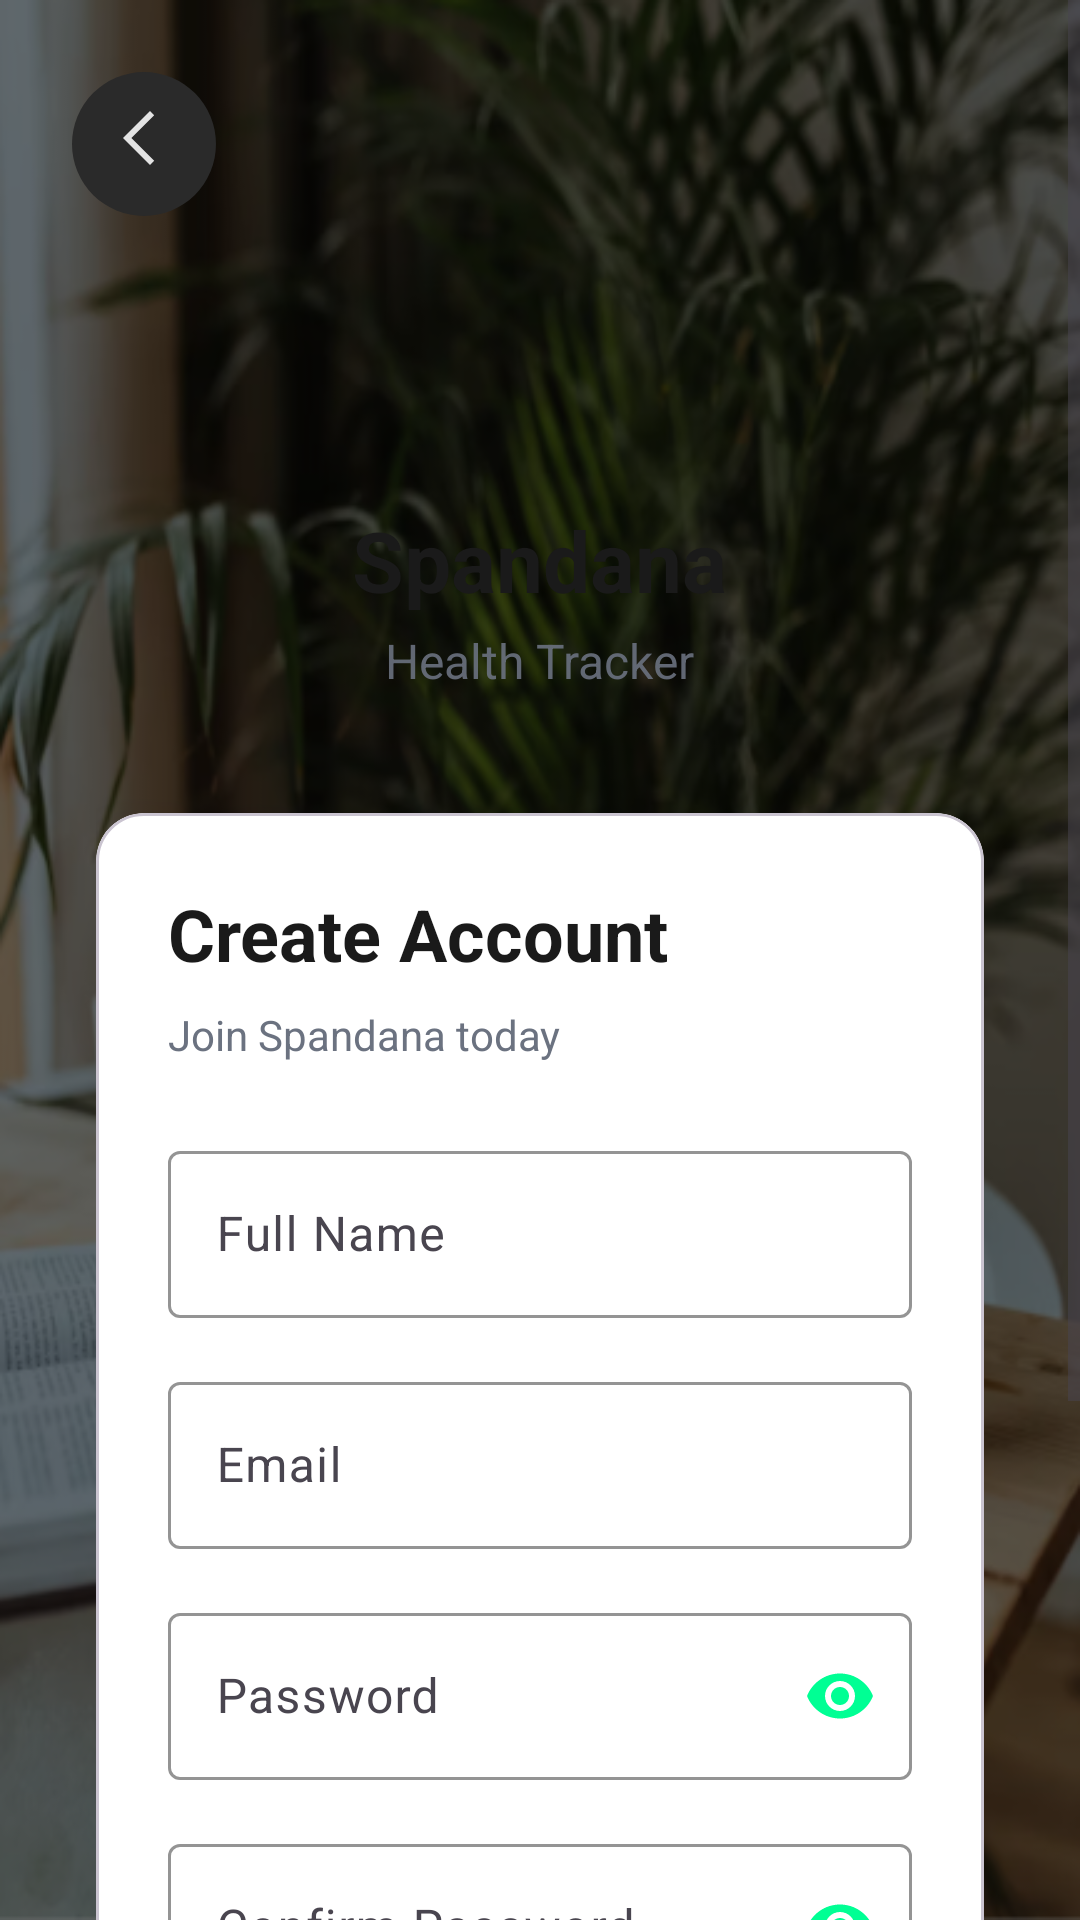

Icons on this 1080×1920 Android screen, each with the point to tap as (x,y):
back: (144,144)
